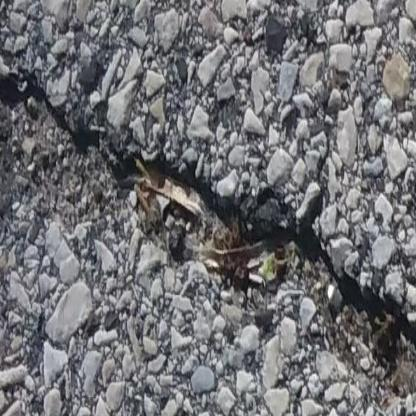Cracks: (0, 63, 416, 415)
